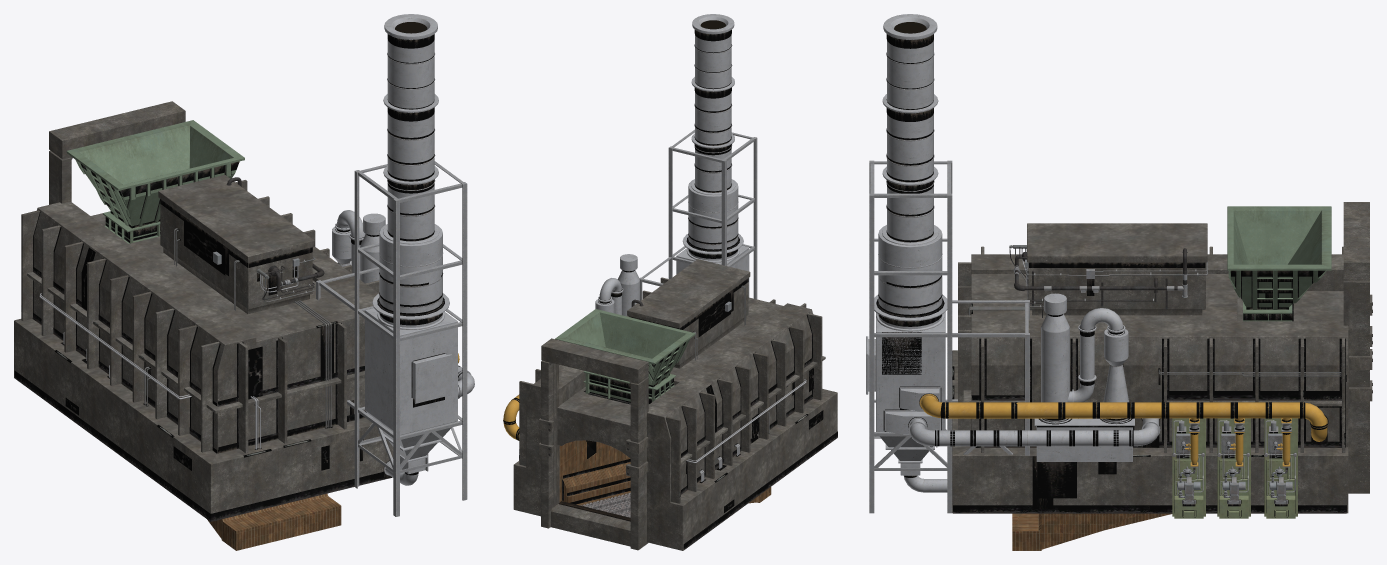
Rendered from sm22_062_incinerator01a.fbx.
3 views of the same model, side by side, from view 1: azimuth 30°, elevation 25°; view 2: azimuth 150°, elevation 25°; view 3: azimuth 270°, elevation 25° (orthographic). The views are drawn at different scales.
Visible parts, largest first — view 1: LOD_1_Group_0_Sub_5__sm22_062_Incinerator01A_F_Mat, LOD_1_Group_0_Sub_7__sm22_062_Incinerator01A_H_Mat, LOD_1_Group_0_Sub_6__sm22_062_Incinerator01A_E_Mat, LOD_1_Group_0_Sub_2__sm22_062_Incinerator01A_B_Mat, LOD_1_Group_0_Sub_3__sm22_062_Incinerator01A_C_Mat, LOD_1_Group_0_Sub_1__sm22_062_Incinerator01A_A_Mat, LOD_1_Group_232_Sub_1__sm22_062_Incinerator01A_F_Mat; view 2: LOD_1_Group_0_Sub_5__sm22_062_Incinerator01A_F_Mat, LOD_1_Group_0_Sub_7__sm22_062_Incinerator01A_H_Mat, LOD_1_Group_0_Sub_6__sm22_062_Incinerator01A_E_Mat, LOD_1_Group_0_Sub_2__sm22_062_Incinerator01A_B_Mat, LOD_1_Group_232_Sub_1__sm22_062_Incinerator01A_F_Mat, LOD_1_Group_0_Sub_3__sm22_062_Incinerator01A_C_Mat, LOD_1_Group_0_Sub_1__sm22_062_Incinerator01A_A_Mat, LOD_1_Group_0_Sub_4__sm22_062_Incinerator01A_G_Mat; view 3: LOD_1_Group_0_Sub_5__sm22_062_Incinerator01A_F_Mat, LOD_1_Group_0_Sub_7__sm22_062_Incinerator01A_H_Mat, LOD_1_Group_0_Sub_6__sm22_062_Incinerator01A_E_Mat, LOD_1_Group_0_Sub_2__sm22_062_Incinerator01A_B_Mat, LOD_1_Group_0_Sub_1__sm22_062_Incinerator01A_A_Mat, LOD_1_Group_232_Sub_1__sm22_062_Incinerator01A_F_Mat, LOD_1_Group_0_Sub_3__sm22_062_Incinerator01A_C_Mat.
Part boxes in pixels (x1,y1,x2,y2): LOD_1_Group_0_Sub_5__sm22_062_Incinerator01A_F_Mat: (14, 101, 393, 513); LOD_1_Group_0_Sub_7__sm22_062_Incinerator01A_H_Mat: (316, 14, 474, 516); LOD_1_Group_0_Sub_6__sm22_062_Incinerator01A_E_Mat: (14, 22, 467, 521); LOD_1_Group_0_Sub_2__sm22_062_Incinerator01A_B_Mat: (66, 120, 459, 363); LOD_1_Group_0_Sub_3__sm22_062_Incinerator01A_C_Mat: (207, 493, 341, 550); LOD_1_Group_0_Sub_1__sm22_062_Incinerator01A_A_Mat: (39, 177, 331, 449); LOD_1_Group_232_Sub_1__sm22_062_Incinerator01A_F_Mat: (49, 150, 72, 204); LOD_1_Group_0_Sub_5__sm22_062_Incinerator01A_F_Mat: (513, 259, 837, 550); LOD_1_Group_0_Sub_7__sm22_062_Incinerator01A_H_Mat: (595, 14, 757, 315); LOD_1_Group_0_Sub_6__sm22_062_Incinerator01A_E_Mat: (503, 20, 837, 550); LOD_1_Group_0_Sub_2__sm22_062_Incinerator01A_B_Mat: (503, 309, 695, 440); LOD_1_Group_232_Sub_1__sm22_062_Incinerator01A_F_Mat: (539, 360, 648, 550); LOD_1_Group_0_Sub_3__sm22_062_Incinerator01A_C_Mat: (559, 440, 771, 505); LOD_1_Group_0_Sub_1__sm22_062_Incinerator01A_A_Mat: (519, 285, 806, 481); LOD_1_Group_0_Sub_4__sm22_062_Incinerator01A_G_Mat: (558, 440, 630, 517); LOD_1_Group_0_Sub_5__sm22_062_Incinerator01A_F_Mat: (952, 202, 1369, 513); LOD_1_Group_0_Sub_7__sm22_062_Incinerator01A_H_Mat: (866, 14, 1160, 513); LOD_1_Group_0_Sub_6__sm22_062_Incinerator01A_E_Mat: (876, 22, 1346, 517); LOD_1_Group_0_Sub_2__sm22_062_Incinerator01A_B_Mat: (919, 206, 1331, 518); LOD_1_Group_0_Sub_1__sm22_062_Incinerator01A_A_Mat: (968, 245, 1341, 516); LOD_1_Group_232_Sub_1__sm22_062_Incinerator01A_F_Mat: (1343, 280, 1372, 493); LOD_1_Group_0_Sub_3__sm22_062_Incinerator01A_C_Mat: (1012, 513, 1171, 550).
Size of the model in its own units: 9.18 by 18.47 by 15.85.
